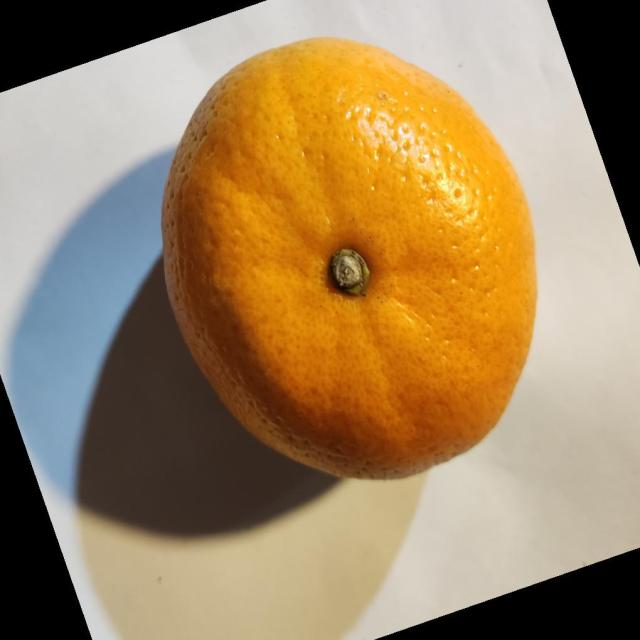fresh orange: (160, 35, 538, 481)
